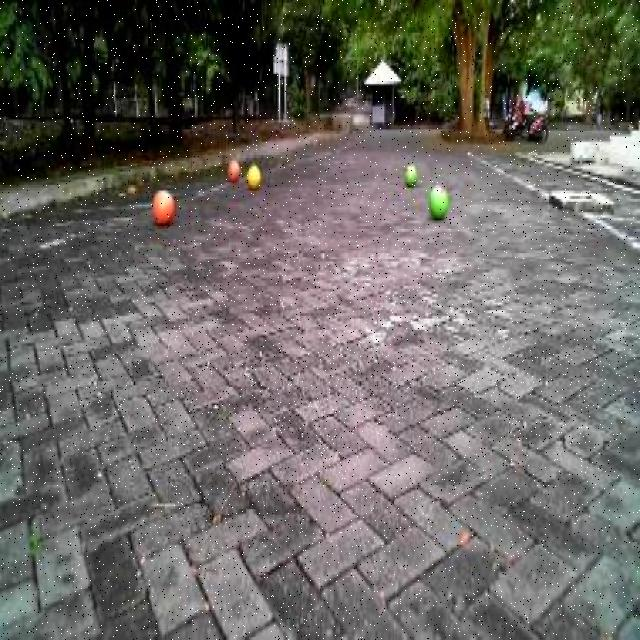buoy: (151, 182, 175, 229), (428, 180, 450, 220), (245, 155, 263, 191)
